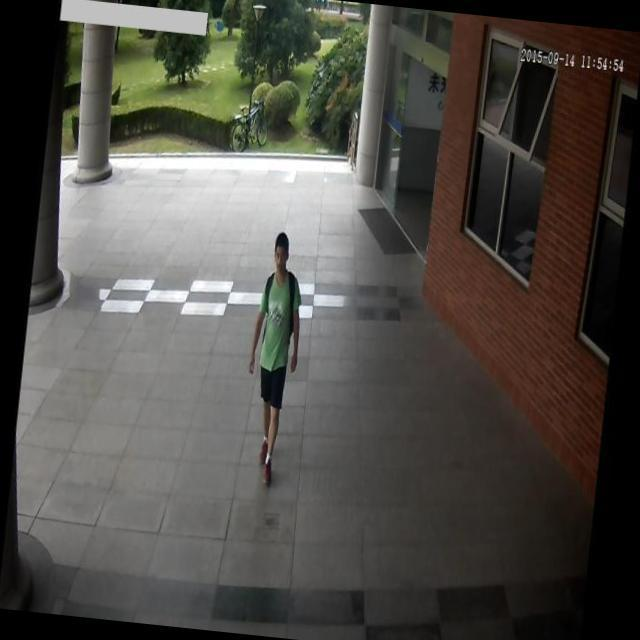person: (229, 220, 318, 502)
